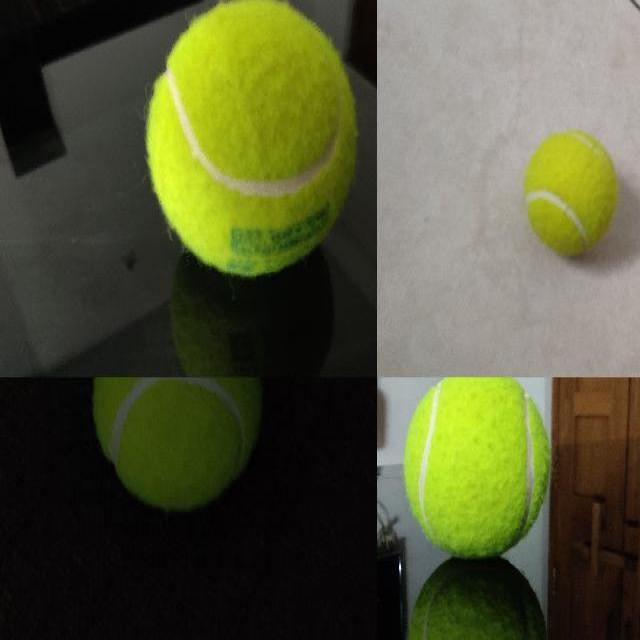tennis-ball: (143, 0, 358, 277), (403, 377, 552, 559), (91, 377, 263, 511), (523, 129, 619, 255)
